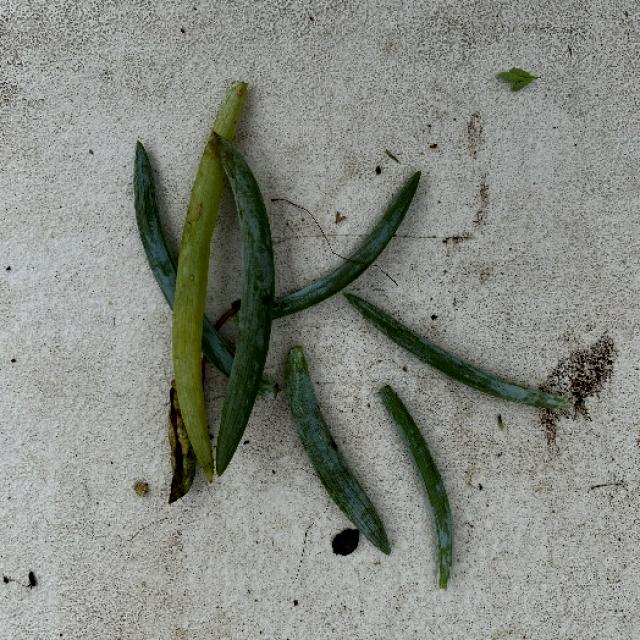wet: (309, 462, 392, 560)
